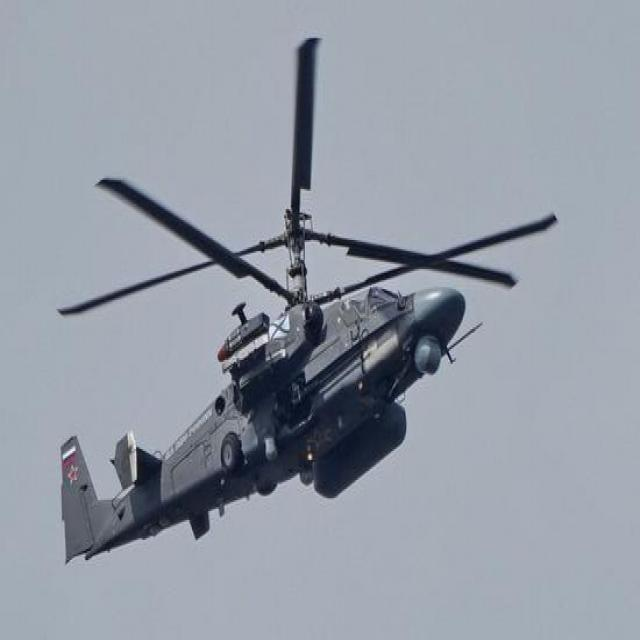MIL_HELO: (33, 26, 573, 612)
